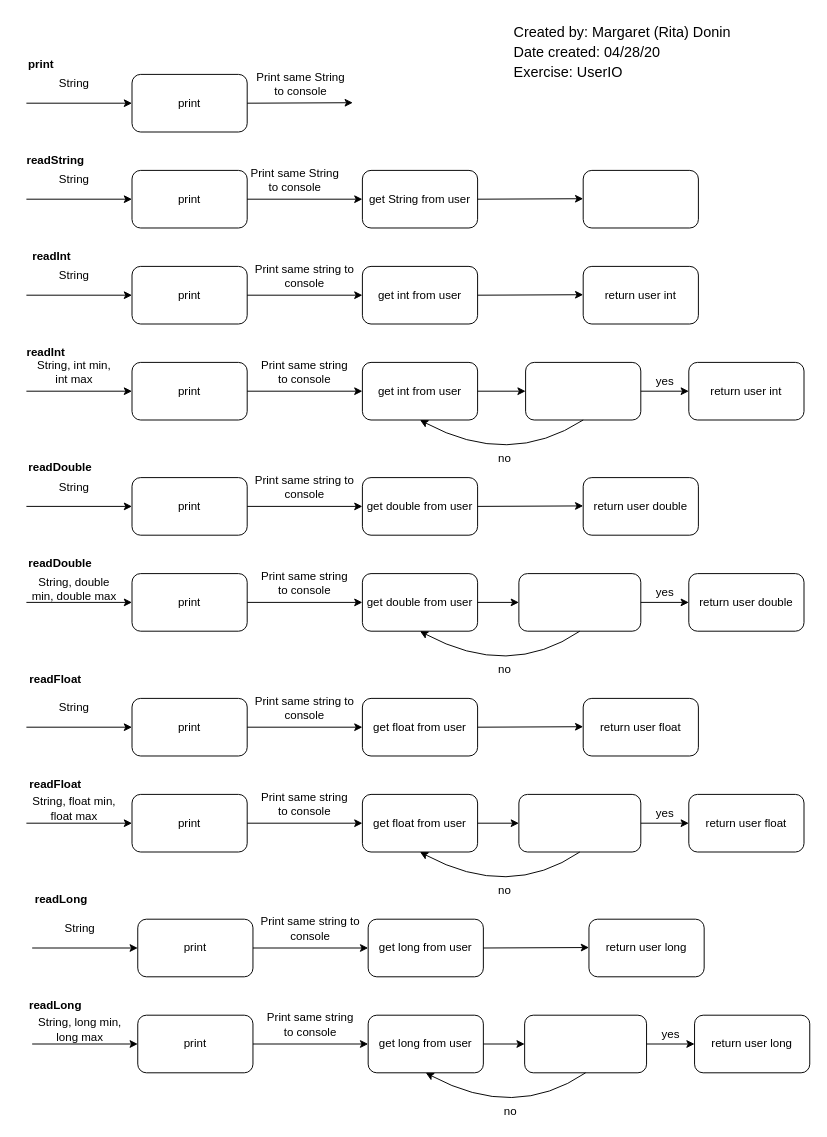
Image size: 827x1137. Some labels were removed from this diagram. The shapes that lost their labels are listed below. From the top down, each one's box as (x1, y1, x2, y2) in pixels, then its label:
(582, 169, 698, 228): return user String
(525, 361, 641, 420): check for: min < user int < max
(518, 573, 641, 631): check for: min < user double < max
(518, 793, 641, 852): check for: min < user float < max
(524, 1014, 647, 1073): check for: min < user long < max
